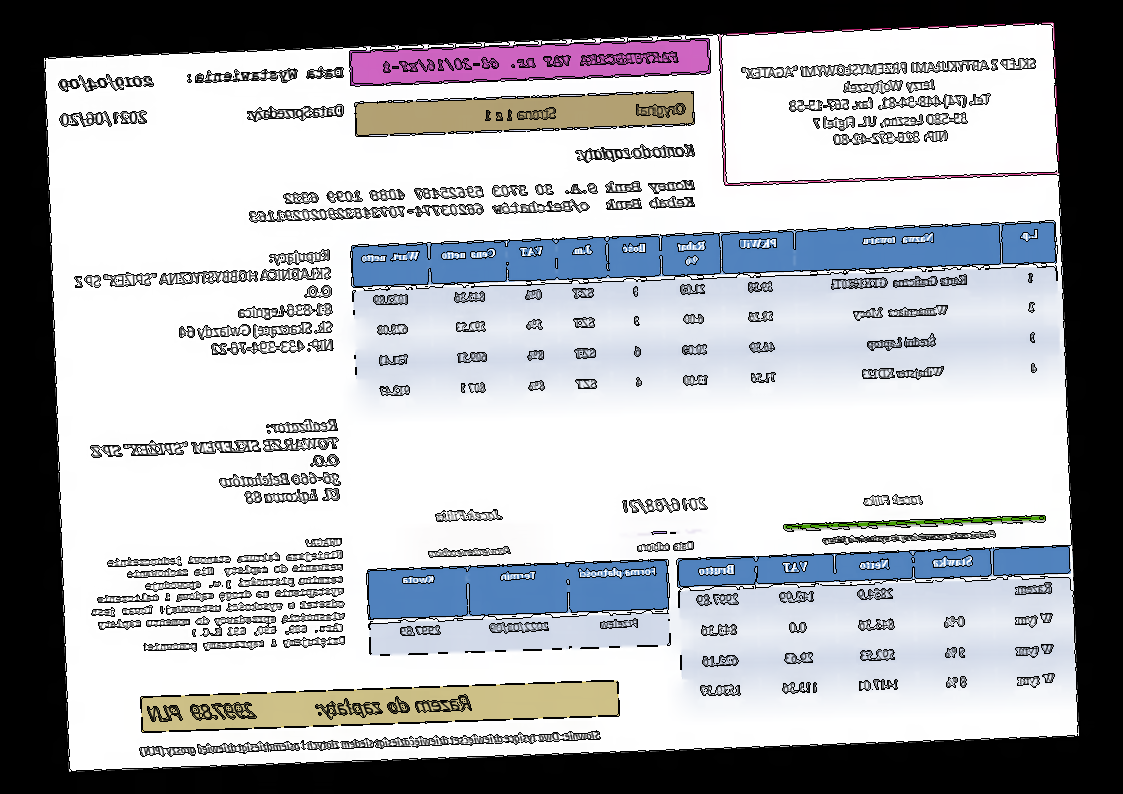Table: (349, 219, 1062, 411), (676, 543, 1077, 712), (365, 556, 672, 657)
TextBox: (86, 534, 349, 657), (69, 245, 337, 365), (739, 52, 1043, 152), (87, 416, 344, 513), (247, 175, 699, 226), (136, 726, 604, 761), (145, 690, 476, 727), (379, 48, 682, 76), (482, 98, 688, 127), (821, 526, 998, 549), (186, 62, 346, 87), (573, 138, 699, 166), (246, 100, 348, 125), (620, 493, 712, 518), (55, 73, 157, 95), (60, 107, 149, 131), (432, 503, 506, 526), (425, 543, 514, 561), (860, 490, 926, 510), (635, 538, 696, 554)
